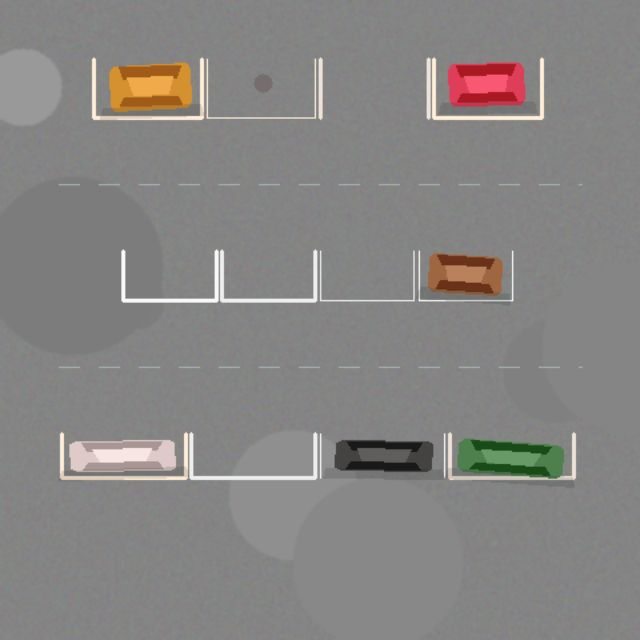space-empty: (207, 59, 315, 117), (320, 59, 428, 117), (191, 433, 315, 477), (221, 251, 315, 300), (123, 251, 216, 300), (320, 251, 413, 300)
space-occupied: (93, 59, 201, 117), (433, 59, 541, 117), (61, 433, 185, 477), (320, 433, 444, 477), (449, 433, 573, 477), (419, 251, 512, 300)
